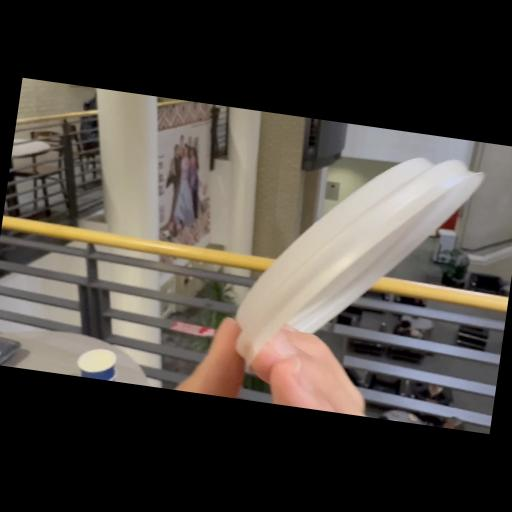lp_cup_lids: (221, 130, 490, 404)
